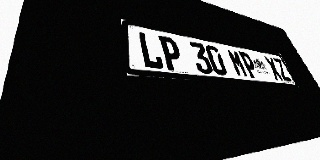0: (204, 44, 228, 76)
3: (189, 41, 214, 74)
L: (137, 31, 165, 70)
M: (226, 49, 249, 78)
P: (158, 35, 185, 72), (238, 51, 260, 79)
X: (263, 56, 284, 81)
Z: (272, 58, 292, 81)
